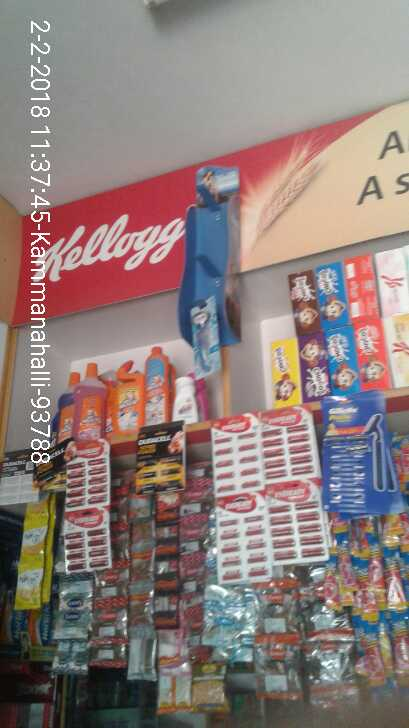reject: (204, 350, 294, 440)
